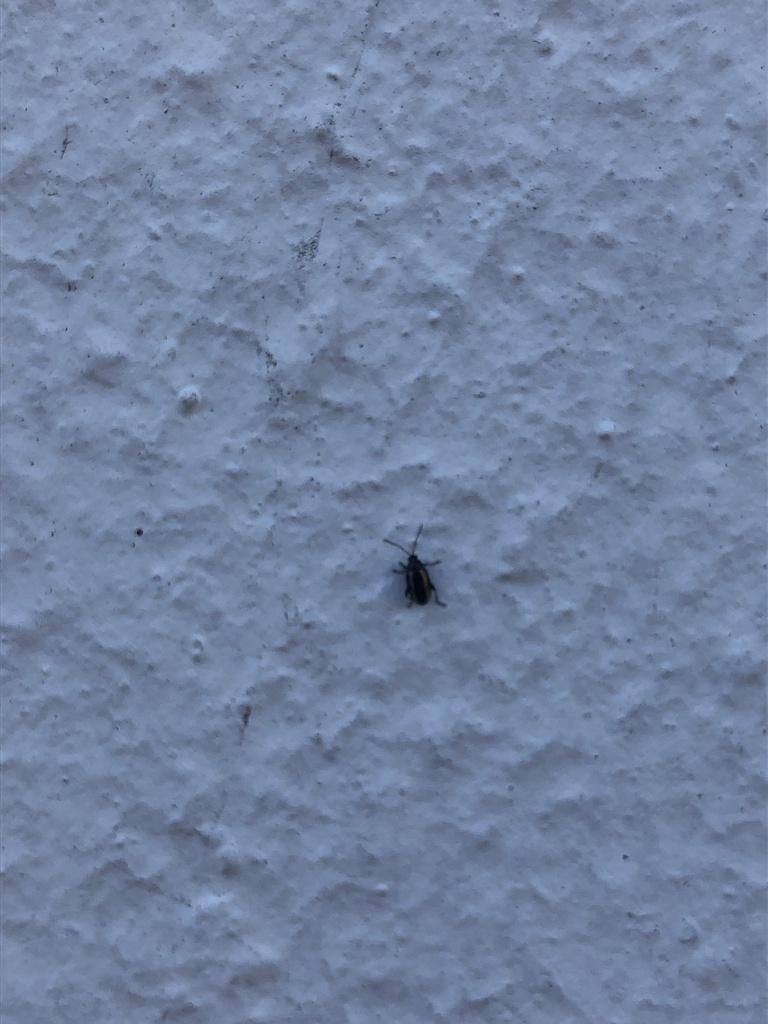flea_beetle: (368, 507, 466, 635)
